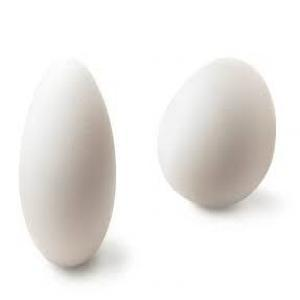Egg: (16, 56, 118, 270), (154, 55, 280, 212)
